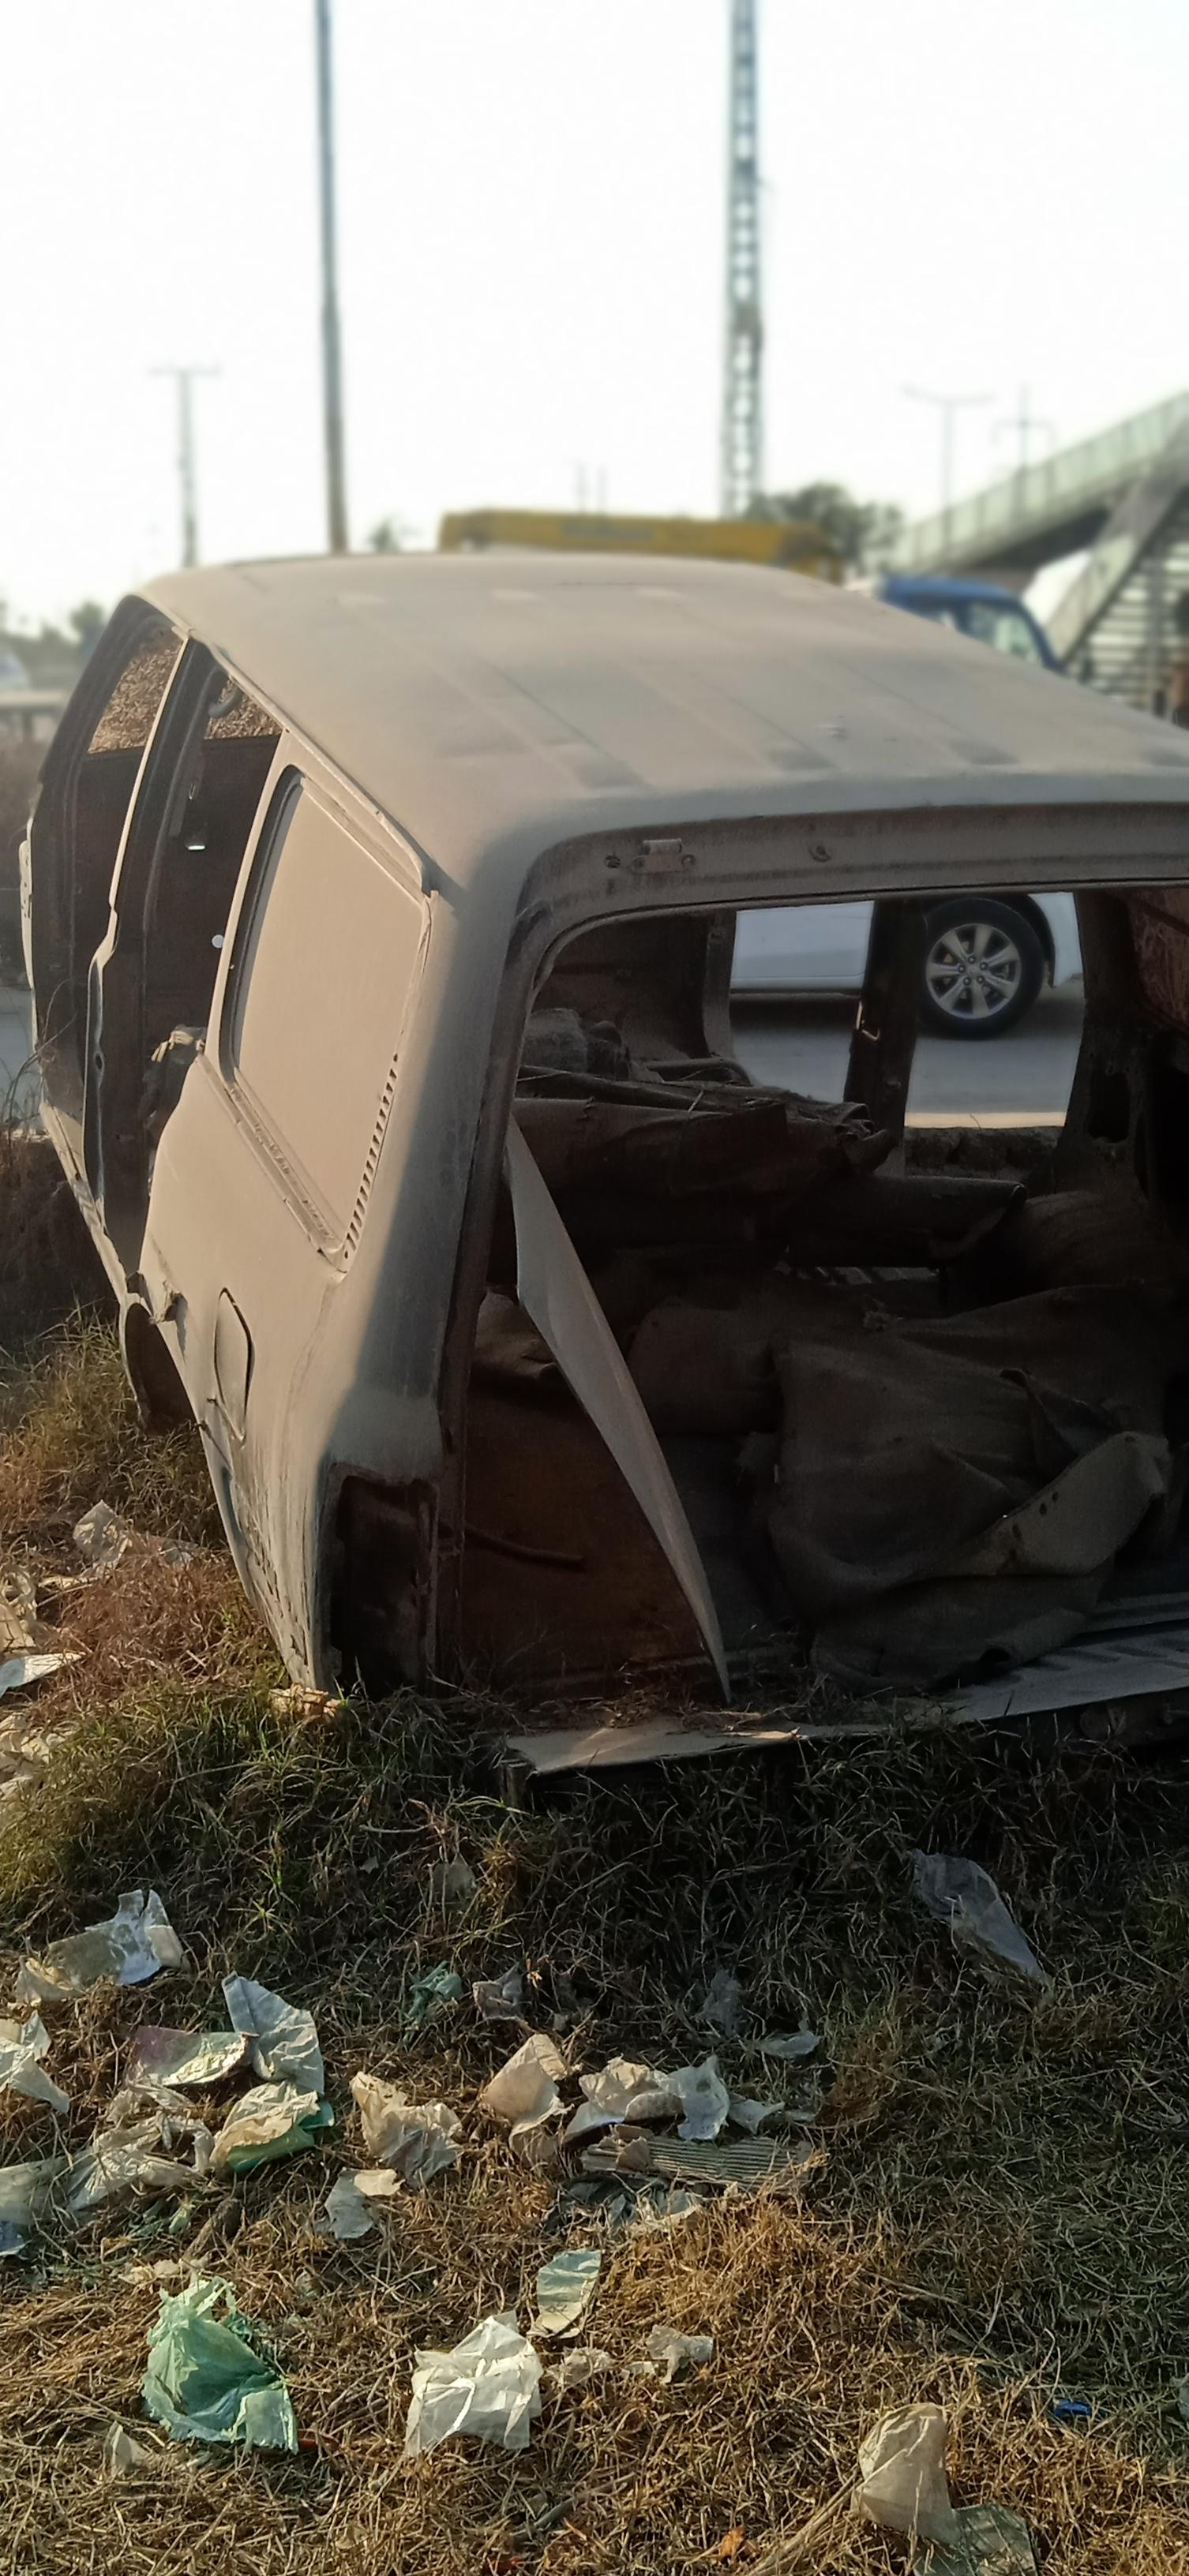automobile: (24, 545, 1189, 1796)
